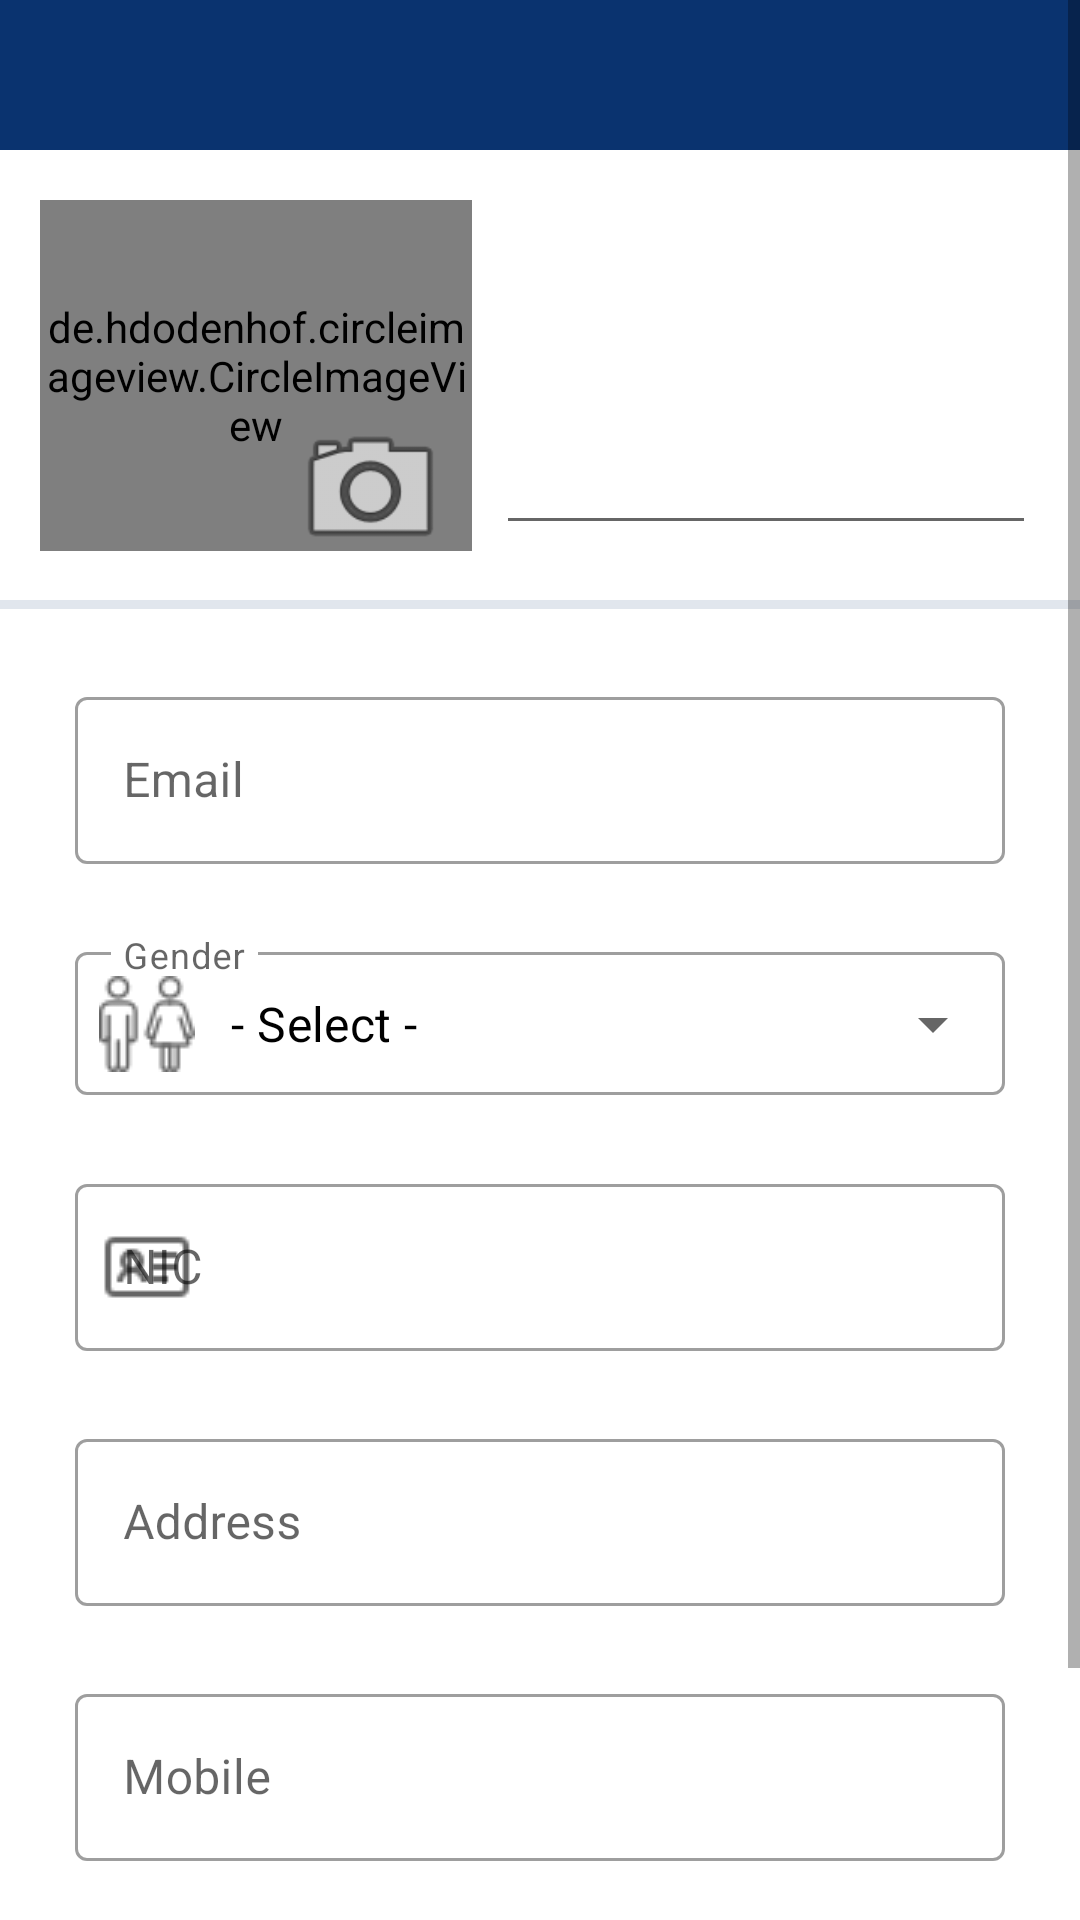

Icons on this 1080 × 1920 Android screen, each with the point to tap as (x,y):
camera: (370,486)
